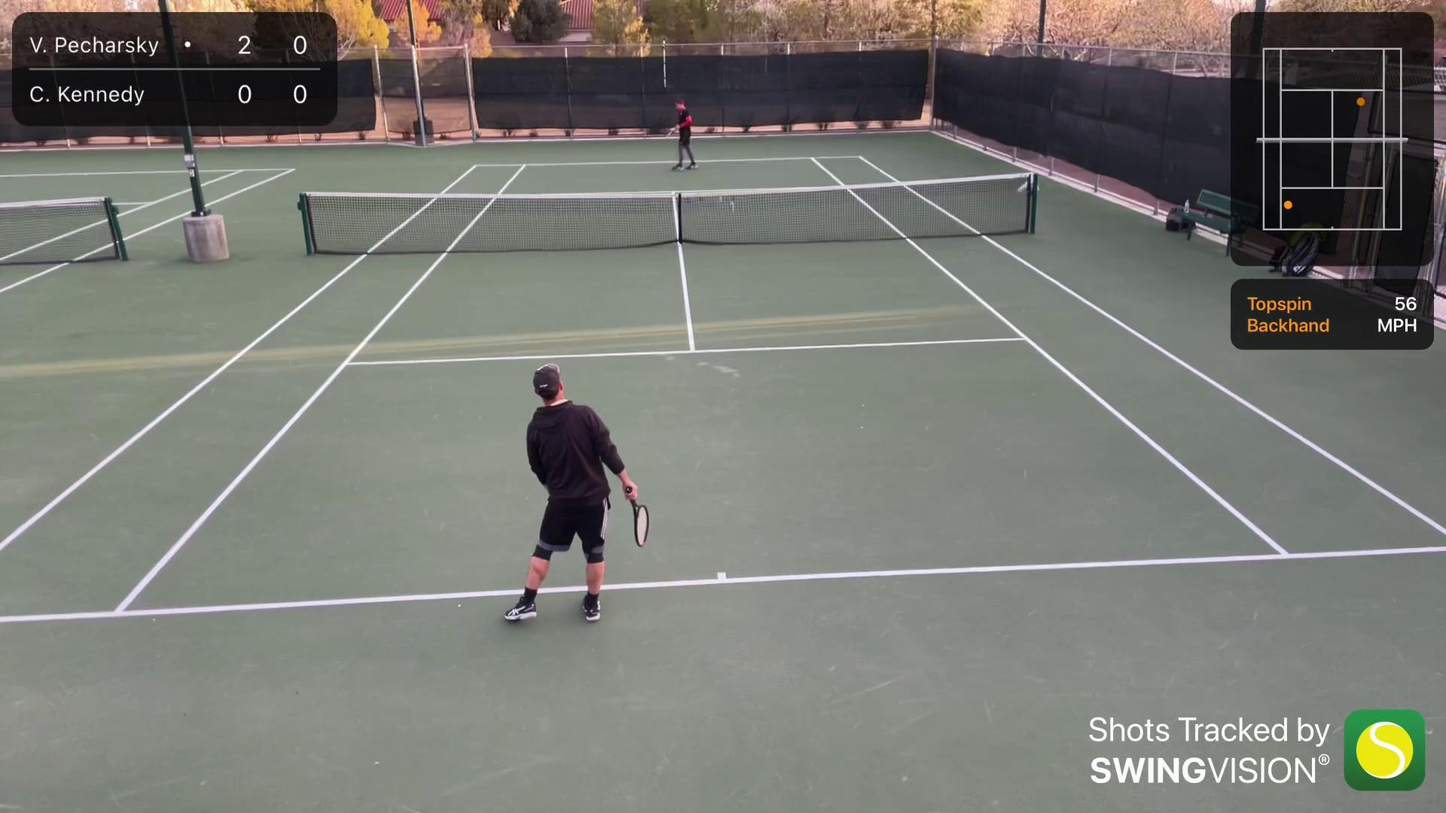ball: (376, 759, 381, 767)
